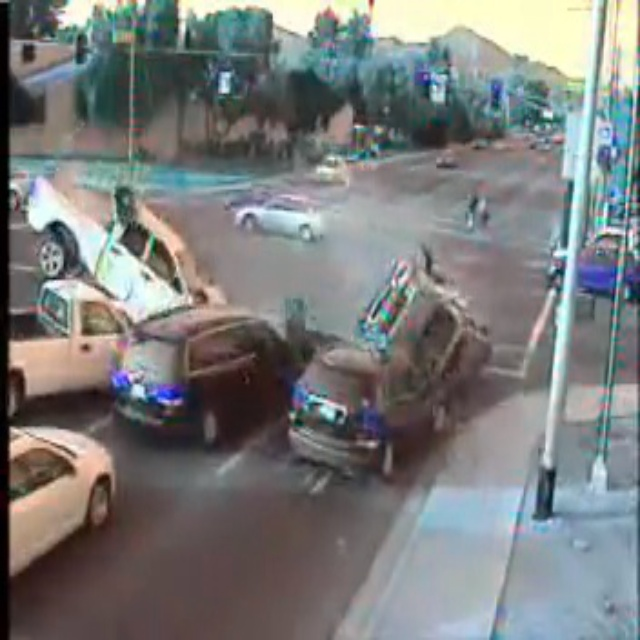acc: (7, 171, 487, 488)
